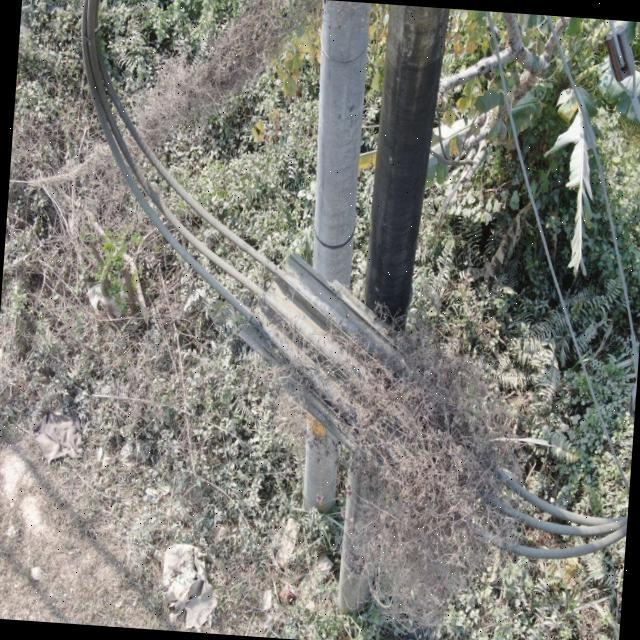critical vegetation: (62, 16, 564, 574)
